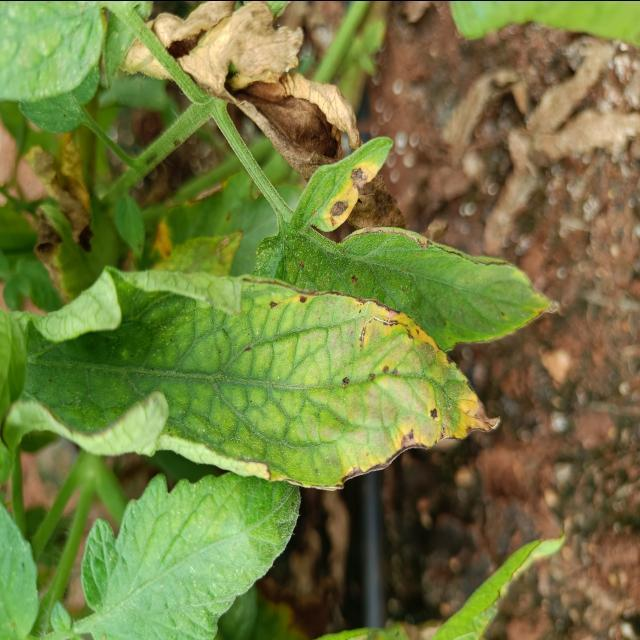Tomato mosaic virus leaf: (227, 273, 507, 497), (299, 130, 399, 233), (288, 244, 370, 294)
